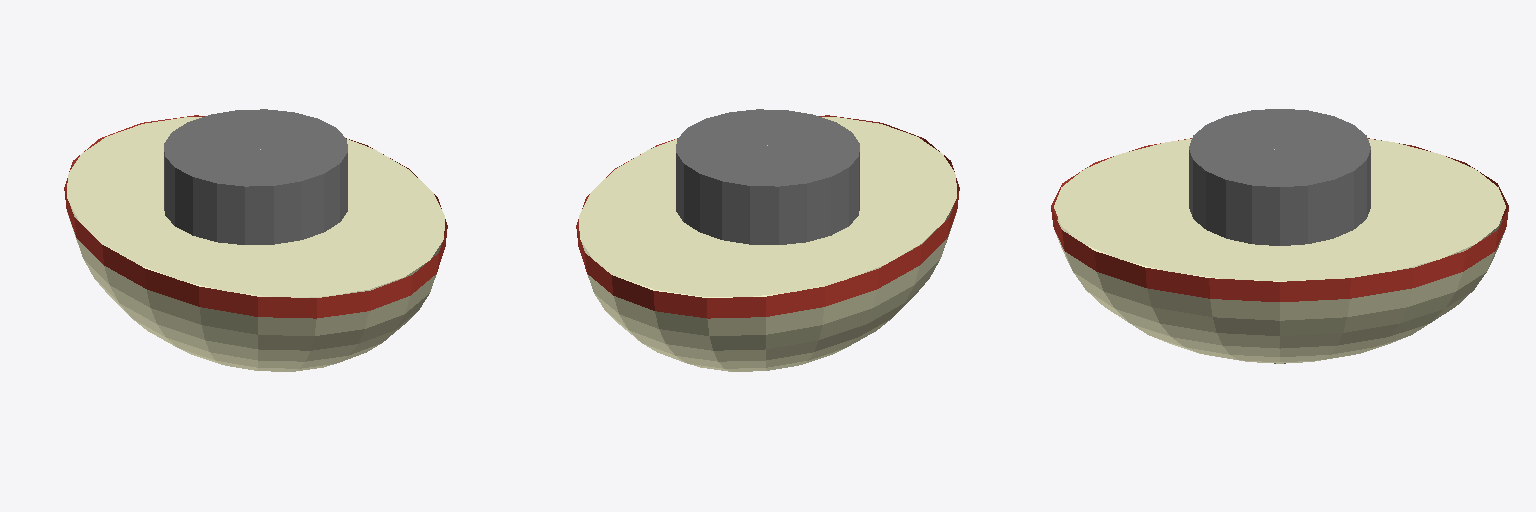
3 renders of one model, left to right at view 1: azimuth 30°, elevation 25°; view 2: azimuth 150°, elevation 25°; view 3: azimuth 270°, elevation 25°, orthographic.
Parts seen in each view (by area): view 1: pSphere3; view 2: pSphere3; view 3: pSphere3.
Part boxes in pixels (bbox=[...]): pSphere3: bbox=[64, 109, 447, 371]; pSphere3: bbox=[576, 109, 959, 371]; pSphere3: bbox=[1051, 109, 1508, 363].
Bounding box in the file's own units: 2.34 × 1.57 × 3.01.
Materials: 5 (3 with a texture image).